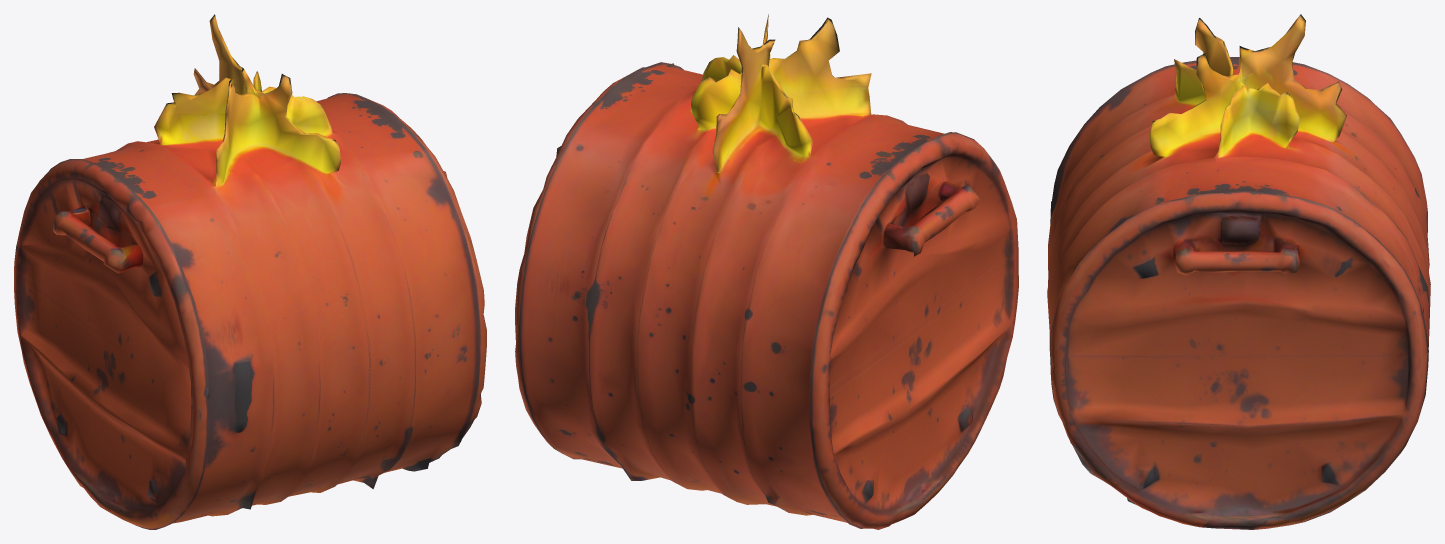
File: firebarrel_russia.glb
The picture shows the model from 3 angles, left to right: view 1: azimuth 30°, elevation 25°; view 2: azimuth 150°, elevation 25°; view 3: azimuth 270°, elevation 25°; orthographic projection. The views are drawn at different scales.
Bounding box in the file's own units: 1.61 × 2 × 1.55.
Materials: 1 (1 with a texture image).
